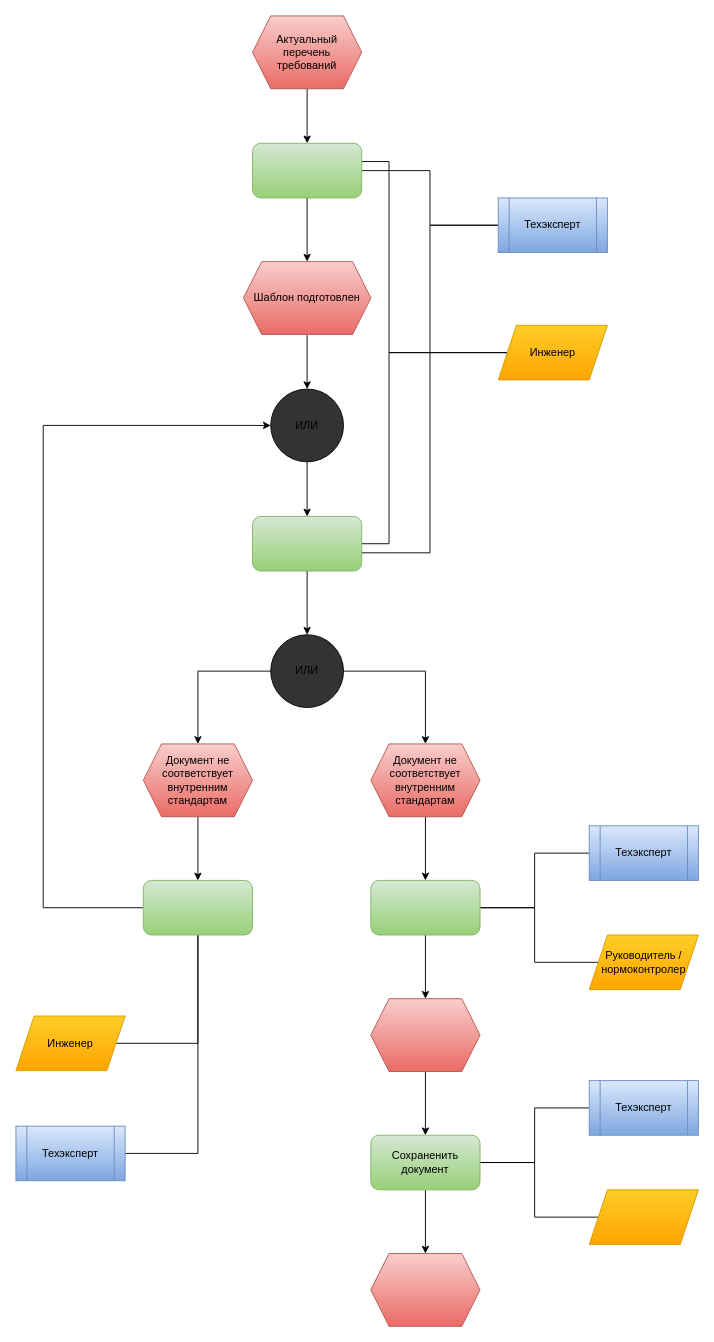
Image size: 714x1342. Some labels were removed from this diagram. The centre of each missing label's shape, as x and y in pixels:
"Администратор" belongs at pixel 643 1216.
"Готовый внутренний документ" belongs at pixel 425 1289.
"Документ утвержден" belongs at pixel 425 1035.
"Заполнить разделы нового документа" belongs at pixel 307 543.
"Подготовить шаблон документа" belongs at pixel 307 170.
"Скорректировать формулировки" belongs at pixel 197 907.
"Согласовать утверждение документа" belongs at pixel 425 907.
